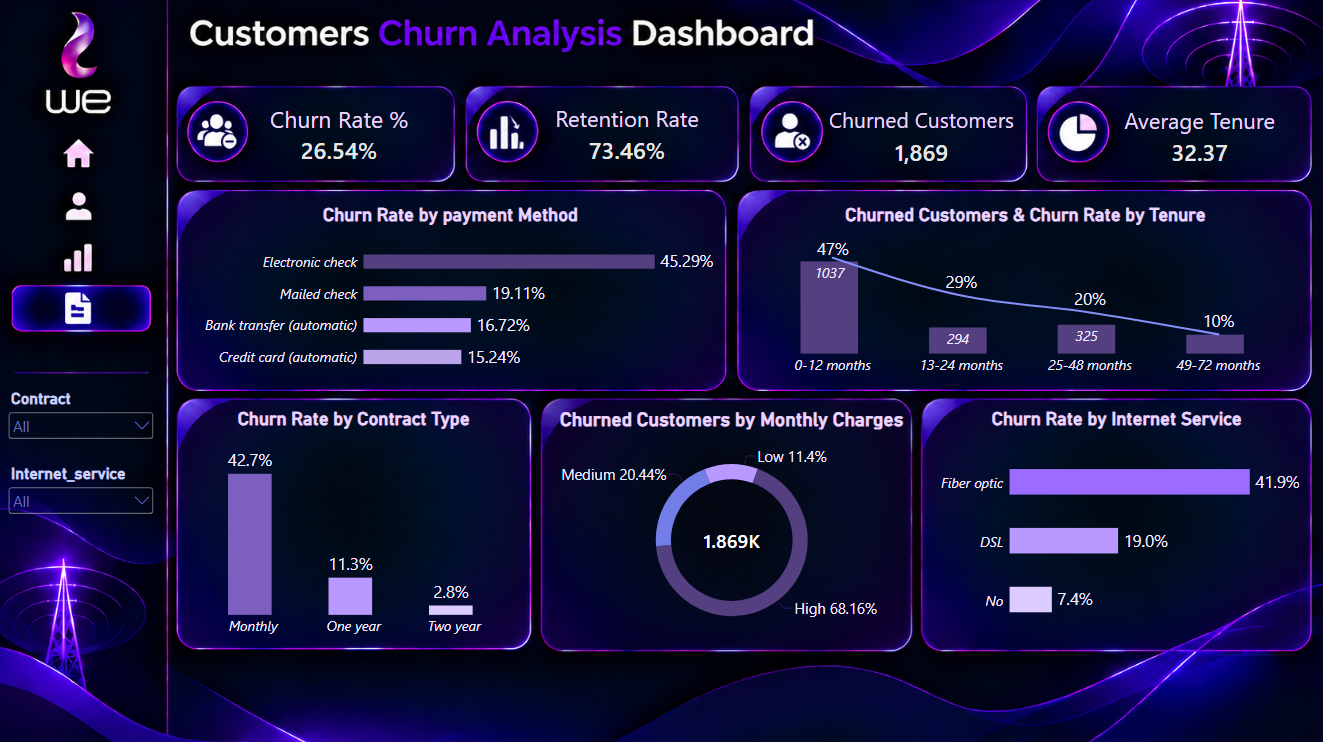

What the dashboard file says about the page in this screenshot:
{"tool":"powerbi","page":{"name":"Churn Analysis","canvas":[1920,1080],"ordinal":3},"visuals":[{"type":"barChart","title":"Churn Rate by payment Method","fields":{"Category":["DimPayment.payment_method"],"Y":["FactCustomer.Churn Rate by Payment"]},"box":[258.8,284.1,792.6,282.3],"z":0},{"type":"slicer","fields":{"Values":["DimService.internet_service"]},"box":[10.9,675,219,132.1],"z":1000},{"type":"cardVisual","fields":{"Data":["FactCustomer.Churn Rate %"]},"box":[258.8,128.5,396.3,141.2],"z":2000},{"type":"cardVisual","fields":{"Data":["FactCustomer.Retention Rate"]},"box":[676.8,128.5,394.5,137.5],"z":3000},{"type":"lineStackedColumnComboChart","title":"Churned Customers & Churn Rate by Tenure","fields":{"Category":["FactCustomer.tenure_group"],"Y":["FactCustomer.Churned Customers calc"],"Y2":["FactCustomer.Churn Rate %"]},"box":[1071.3,284.1,832.4,282.3],"z":4000},{"type":"columnChart","title":"Churn Rate by Contract Type","fields":{"Category":["DimContract.Contract Short"],"Y":["FactCustomer.Churn Rate %"]},"box":[258.8,579.1,512.1,365.6],"z":5000},{"type":"cardVisual","fields":{"Data":["FactCustomer.Churned Customers"]},"box":[1089.4,132.1,401.7,137.5],"z":6000},{"type":"cardVisual","fields":{"Data":["FactCustomer.Average Tenure"]},"box":[1505.6,132.1,394.5,137.5],"z":7000},{"type":"barChart","title":"Churn Rate by Internet Service","fields":{"Category":["DimService.internet_service"],"Y":["FactCustomer.Churn Rate %"]},"box":[1339.1,579.1,561,365.6],"z":8000},{"type":"donutChart","title":"Churned Customers by Monthly Charges","fields":{"Category":["FactCustomer.Monthly Charges Range"],"Y":["FactCustomer.Churned Customers calc"]},"box":[785.4,579.1,553.8,365.6],"z":9000},{"type":"actionButton","box":[18.1,332.6,197.3,74.2],"z":10000},{"type":"actionButton","box":[18,187.1,197.3,76],"z":11000},{"type":"actionButton","box":[21.7,269.6,197.3,67],"z":12000},{"type":"slicer","fields":{"Values":["DimContract.contract"]},"box":[10.9,566.4,219,108.6],"z":13000}]}

Visuals, with their boxes on the page's 1920x1080 design canvas (x1, y1, x2, y2). These are canvas units, not pixel positions in the 1323x742 screenshot, which may show the page scaled, cropped or inside an application window:
"Churn Rate by payment Method" barChart: bbox=(259, 284, 1051, 566)
slicer - DimService.internet_service: bbox=(11, 675, 230, 807)
cardVisual - FactCustomer.Churn Rate %: bbox=(259, 128, 655, 270)
cardVisual - FactCustomer.Retention Rate: bbox=(677, 128, 1071, 266)
"Churned Customers & Churn Rate by Tenure" lineStackedColumnComboChart: bbox=(1071, 284, 1904, 566)
"Churn Rate by Contract Type" columnChart: bbox=(259, 579, 771, 945)
cardVisual - FactCustomer.Churned Customers: bbox=(1089, 132, 1491, 270)
cardVisual - FactCustomer.Average Tenure: bbox=(1506, 132, 1900, 270)
"Churn Rate by Internet Service" barChart: bbox=(1339, 579, 1900, 945)
"Churned Customers by Monthly Charges" donutChart: bbox=(785, 579, 1339, 945)
actionButton: bbox=(18, 333, 215, 407)
actionButton: bbox=(18, 187, 215, 263)
actionButton: bbox=(22, 270, 219, 337)
slicer - DimContract.contract: bbox=(11, 566, 230, 675)
